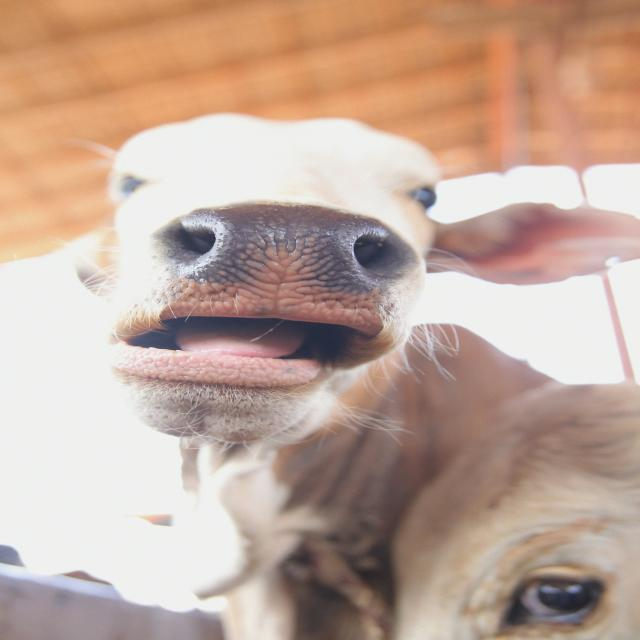muzzles: (135, 203, 425, 350)
